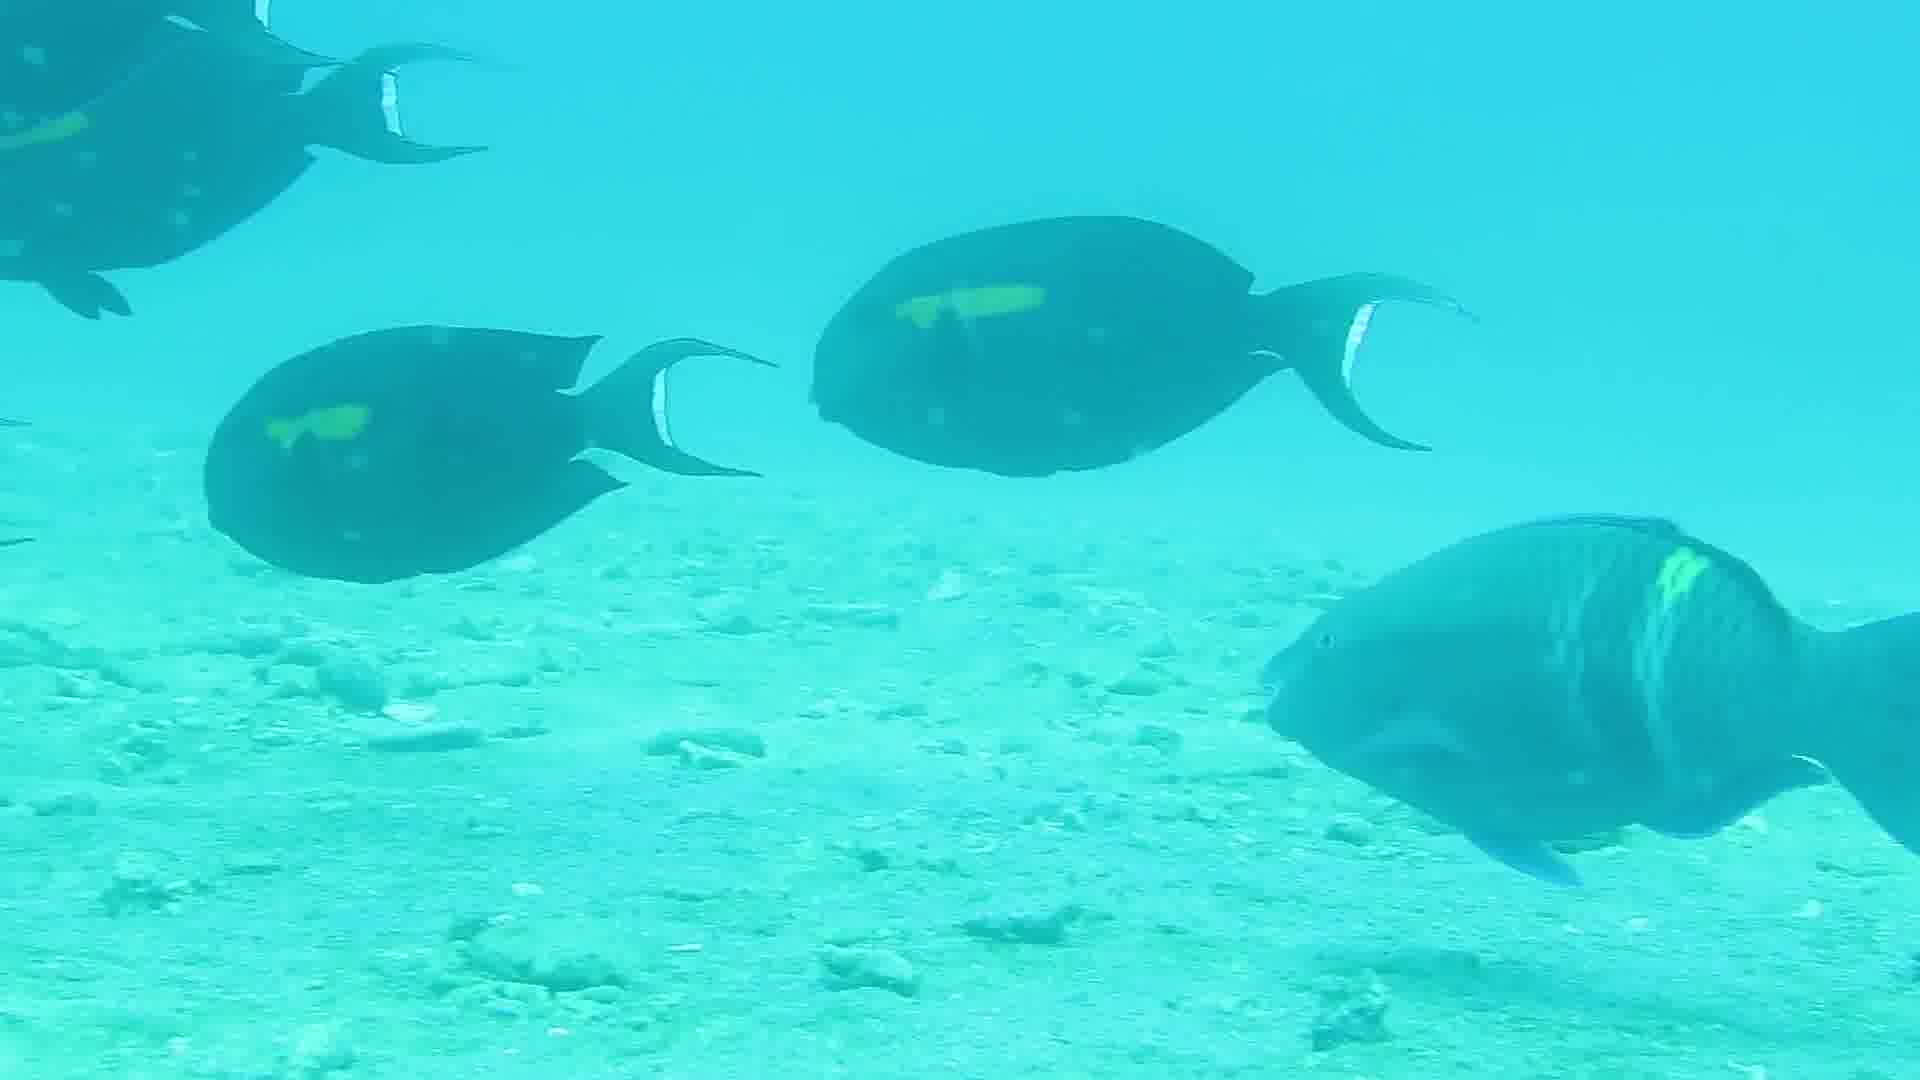Acanthurus olivaceus: (1229, 504, 1920, 902), (800, 215, 1445, 479), (189, 309, 640, 584), (1, 1, 451, 276)
